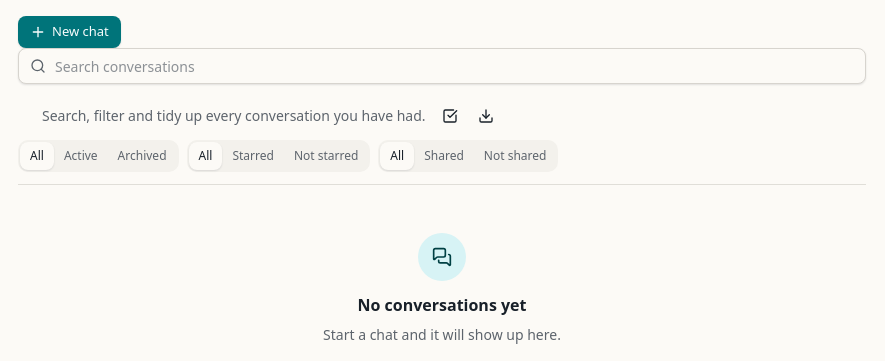
Test: RecentPage list › distinguishes a search with no results
This screenshot has width=885, height=361.
Expected: the heading "No conversations yet" is shown, [358,293,526,317]
In the search field: (442, 66) [18,48,866,84], type "zzz"
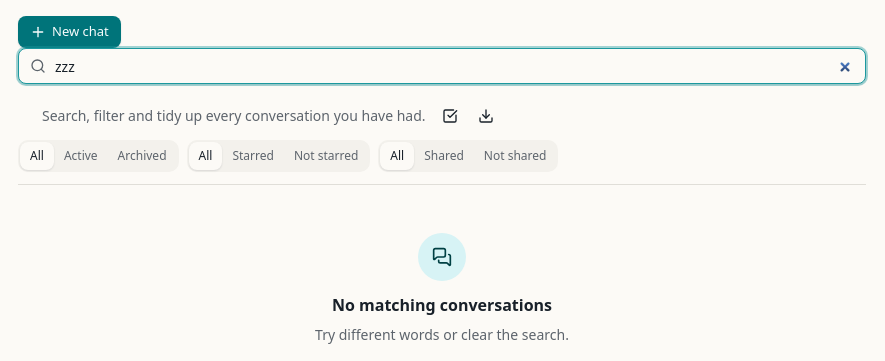
Expected: the heading "No matching conversations" is shown, [332,293,552,317]
